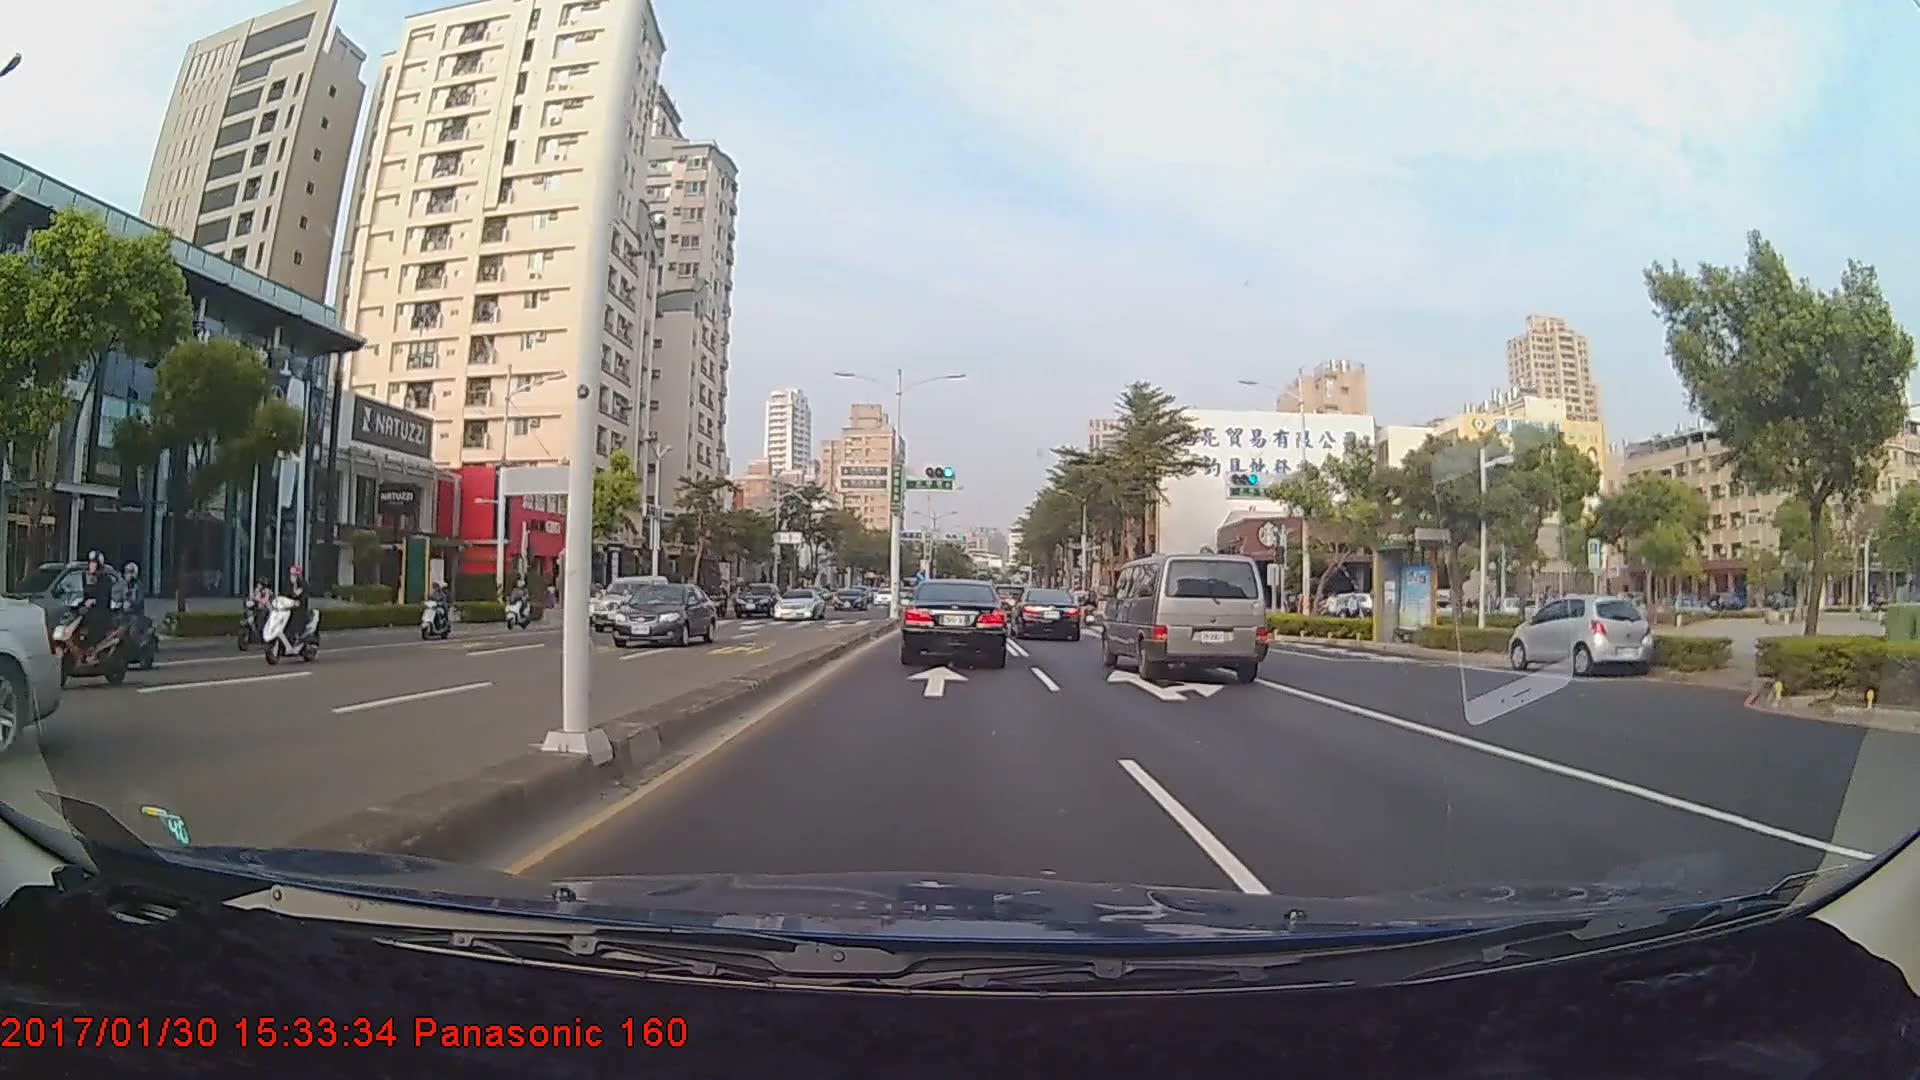rider: (50, 547, 145, 687), (89, 550, 164, 678), (258, 558, 330, 669), (232, 574, 288, 648), (417, 574, 456, 641)
vehicle: (1103, 547, 1268, 686), (1508, 592, 1650, 676), (902, 577, 1007, 667), (20, 564, 126, 651), (608, 580, 715, 649), (588, 571, 670, 630), (1008, 587, 1080, 642), (770, 586, 825, 618), (732, 578, 779, 615), (831, 585, 871, 612)
